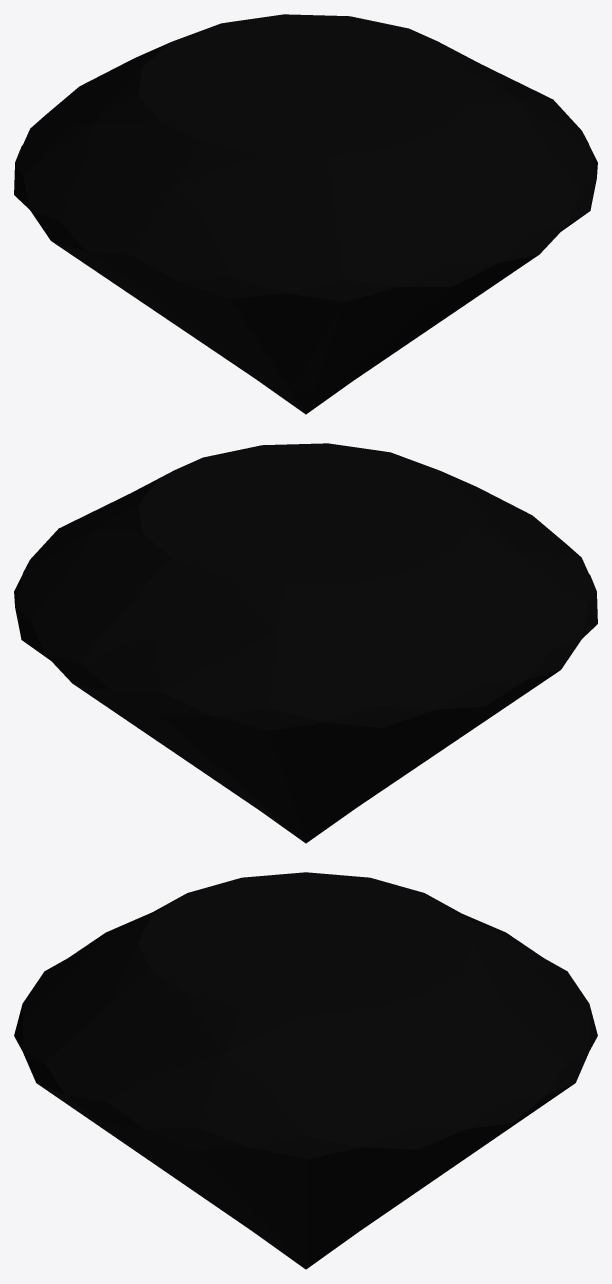
The model's file is diamond.glb.
The picture shows the model from 3 angles, top to bottom: view 1: azimuth 30°, elevation 25°; view 2: azimuth 150°, elevation 25°; view 3: azimuth 270°, elevation 25°; orthographic projection.
Parts seen in each view (by area): view 1: node_id8; view 2: node_id8; view 3: node_id8.
Boxes of the visible parts, x1,y1,x2,y2 form: node_id8: (14,14,597,414); node_id8: (14,443,597,843); node_id8: (14,872,597,1269).
Bounding box in the file's own units: 0.512 × 0.3159 × 0.512.
1 material, 1 textured.
